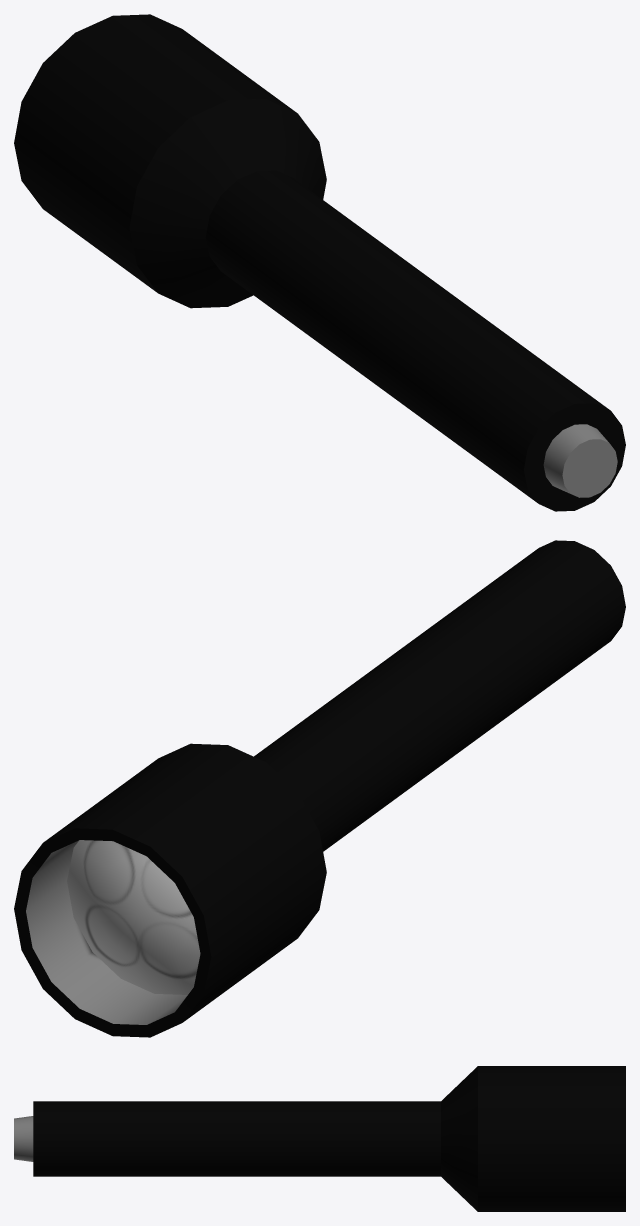
The model's file is light.obj.
The picture shows the model from 3 angles, top to bottom: view 1: azimuth 30°, elevation 25°; view 2: azimuth 150°, elevation 25°; view 3: azimuth 270°, elevation 25°; orthographic projection. The views are drawn at different scales.
Visible parts, largest first — view 1: Cylinder; view 2: Cylinder; view 3: Cylinder.
Part boxes in pixels (box(x1,y1,x2,y2)): Cylinder: box(14, 14, 625, 511); Cylinder: box(14, 540, 625, 1037); Cylinder: box(14, 1066, 625, 1211).
Size of the model in its own units: 0.0559 by 0.0559 by 0.2342.
Materials: 1 (1 with a texture image).
